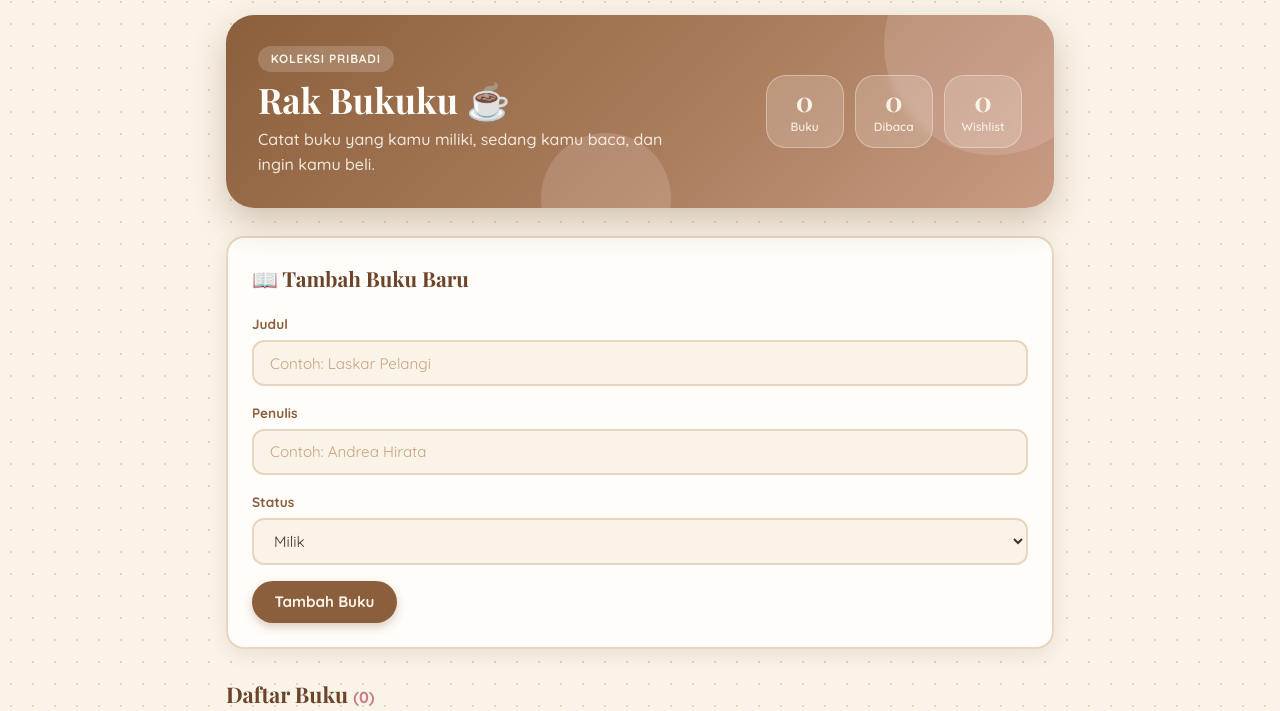
Test: Halaman Home (integrasi) › membatalkan penghapusan menyimpan buku tetap ada
The image size is (1280, 711).
Type "Tetap Ada" into the field labelled "Judul". click: coordinates (640, 363)
box: [252, 340, 1028, 386]
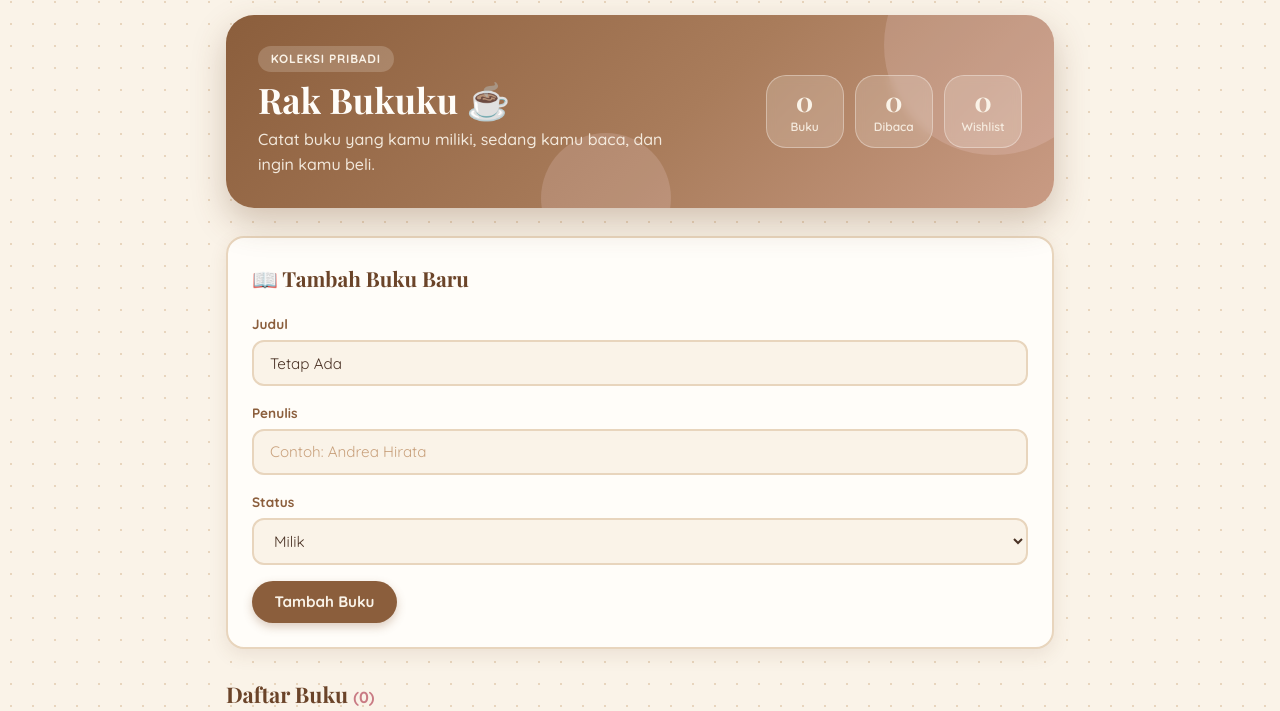
Type "Penulis C" into the field labelled "Penulis". click: coordinates (640, 452)
box: [252, 429, 1028, 474]
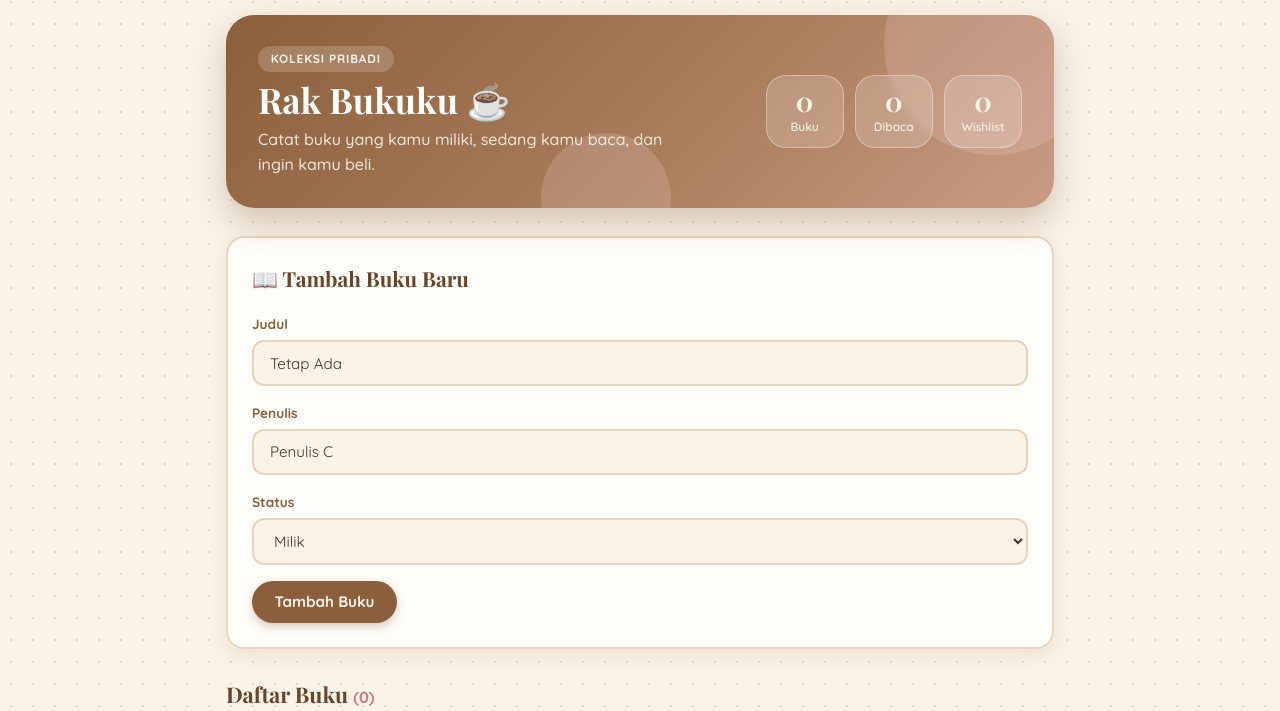
Select "Milik" in the dropdown labelled "Status". click: coordinates (640, 542)
box: [252, 518, 1028, 565]
Click the button "Tambah Buku". click: coordinates (324, 602)
box: [252, 581, 397, 623]
(page scrolled)
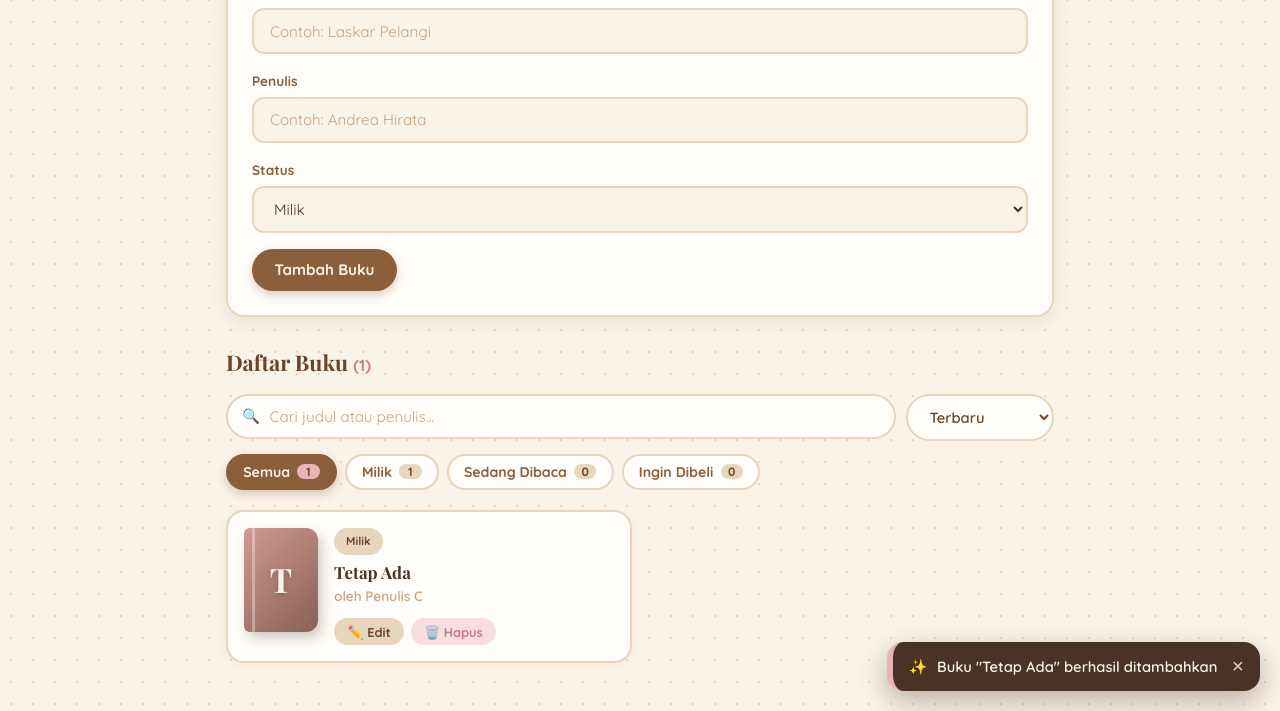
Click the button with aria-label "Hapus Tetap Ada". click: coordinates (454, 632)
box: [411, 618, 496, 645]
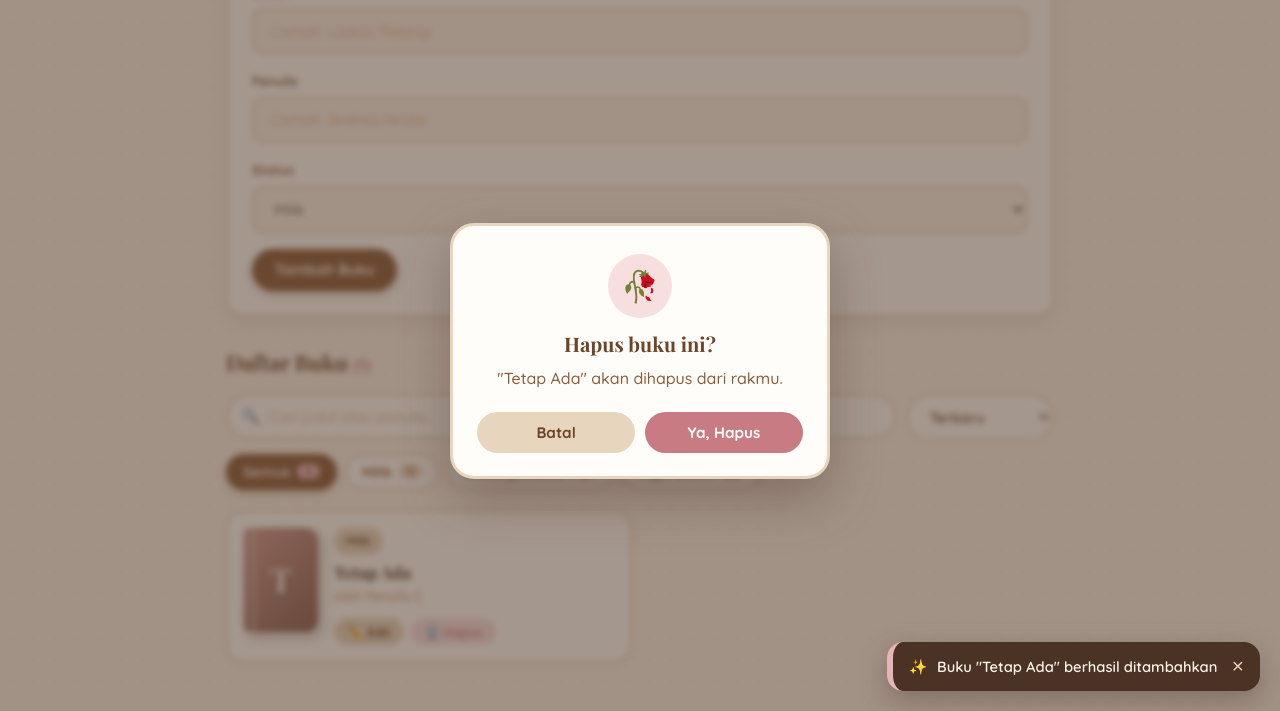
Click the button "Batal". click: coordinates (556, 433)
box: [477, 412, 635, 453]
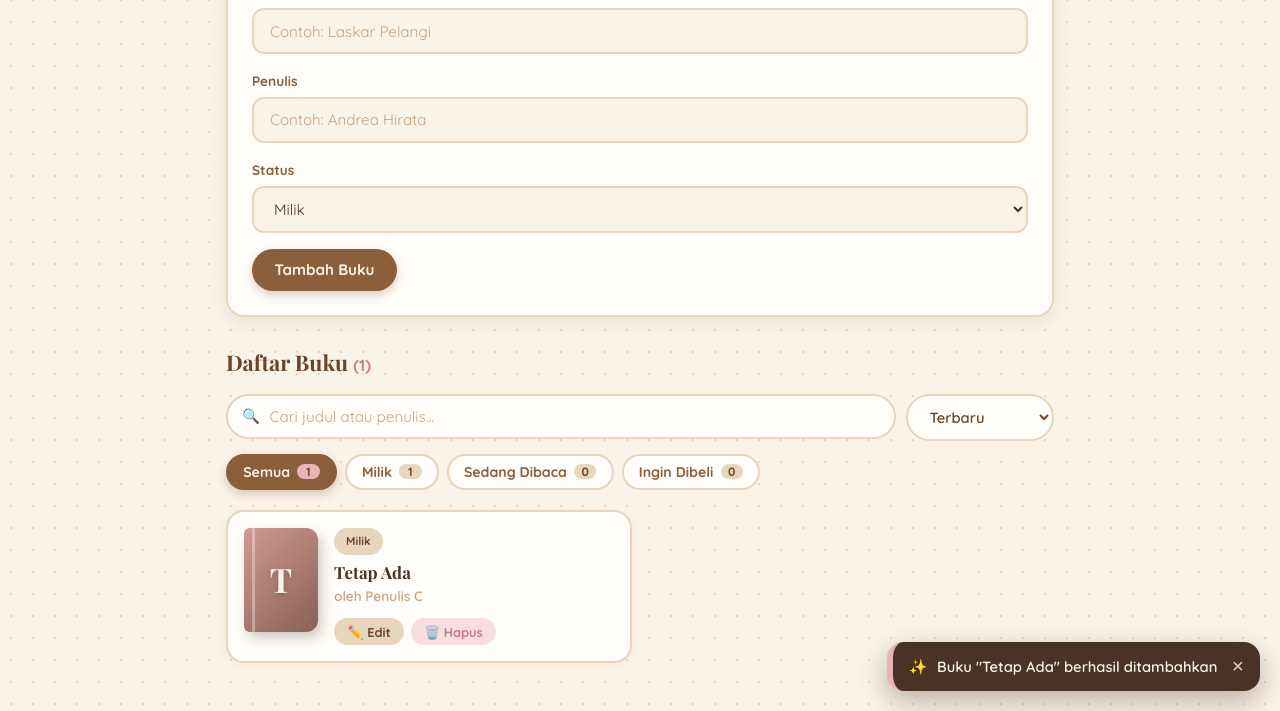
Expected: the heading "Tetap Ada" is shown, [334, 562, 411, 584]
Expected: the dialog is gone
